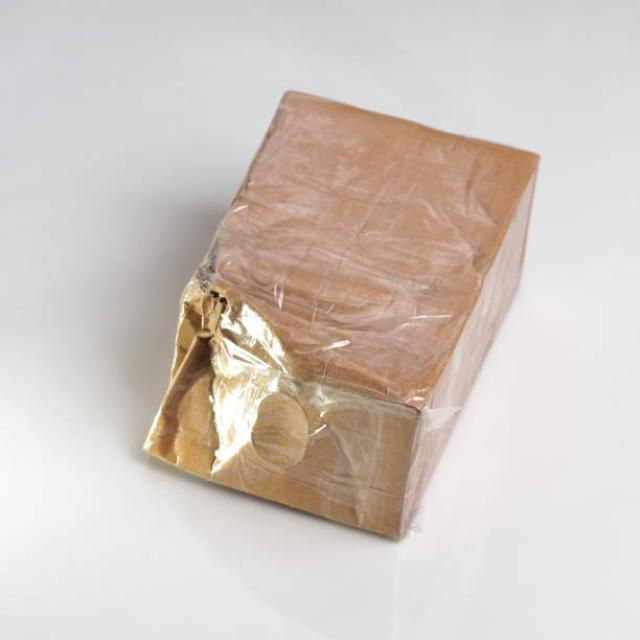crushed: (135, 271, 294, 494)
